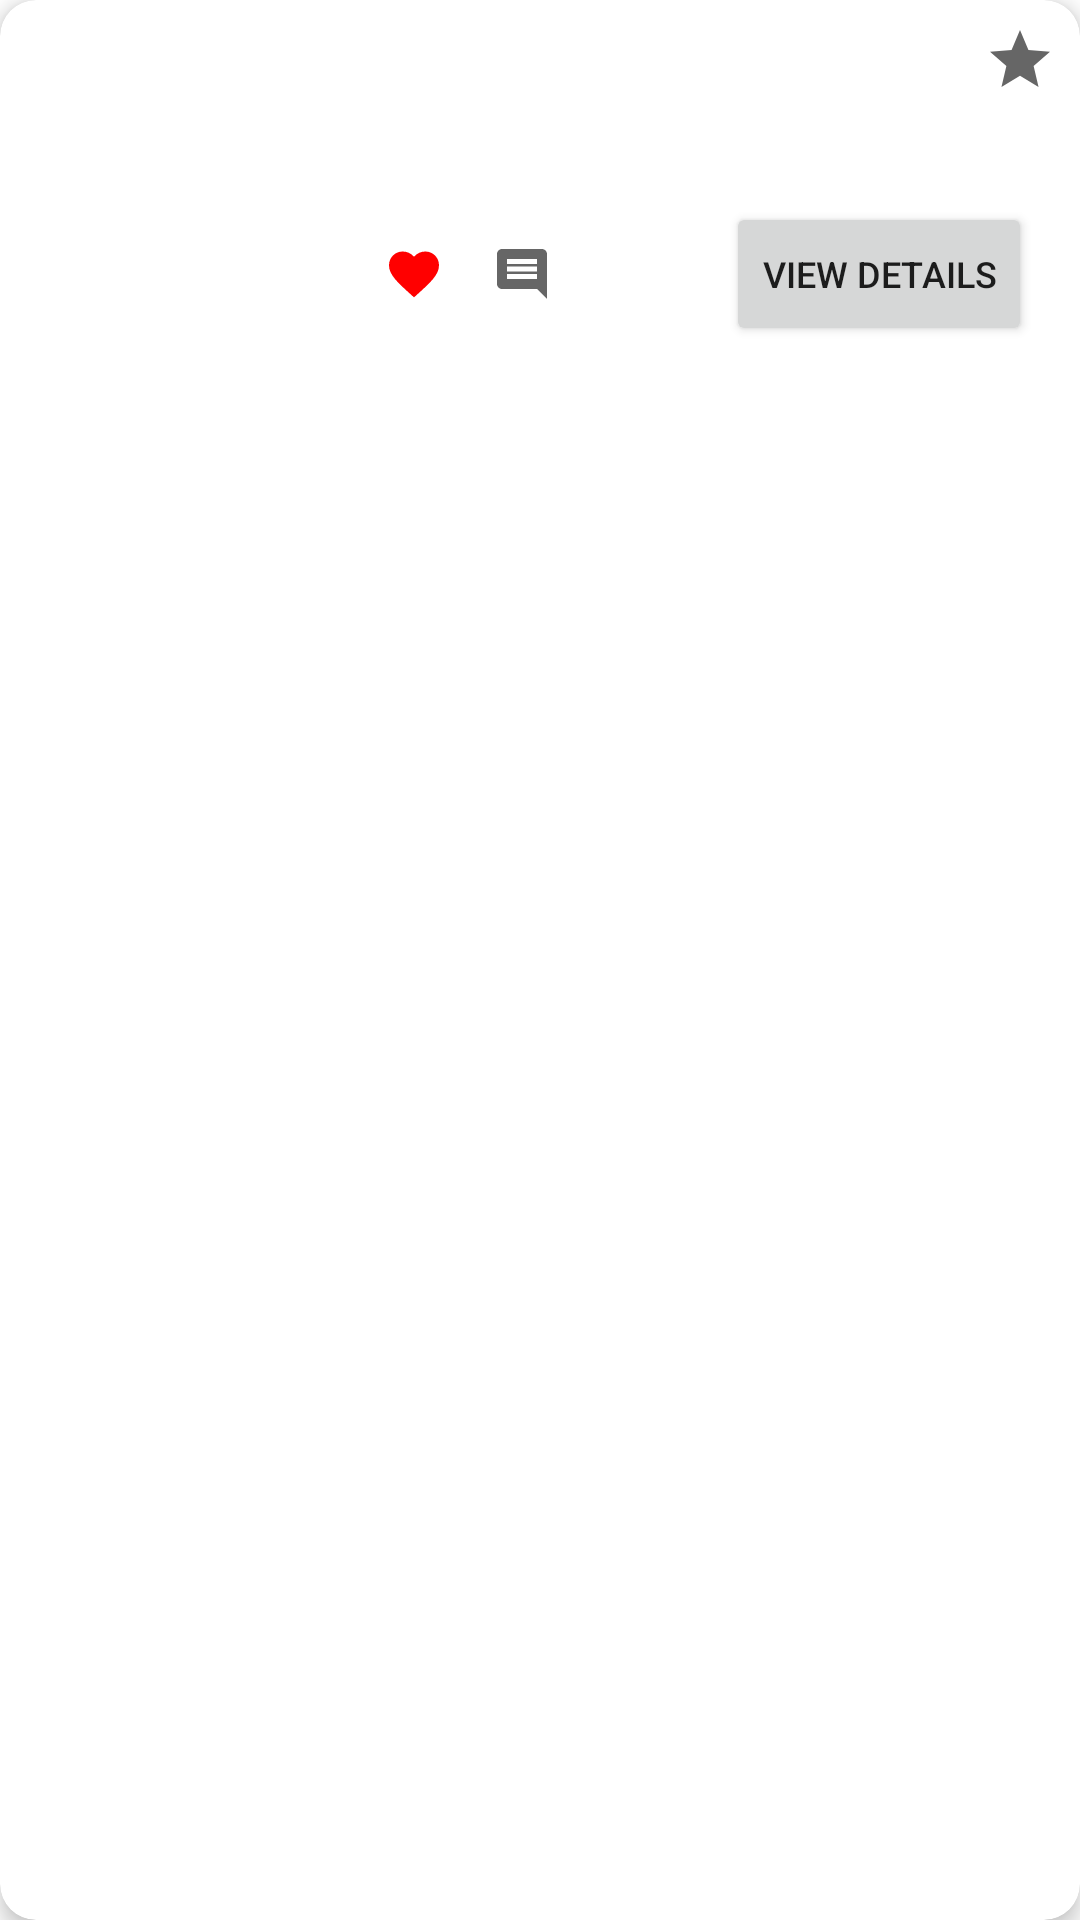

Screen size 1080w x 1920h. Icon name, then its center in pixels as point (x, y):
comment: point (522, 274)
heart: point (414, 274)
star: point (1020, 58)
